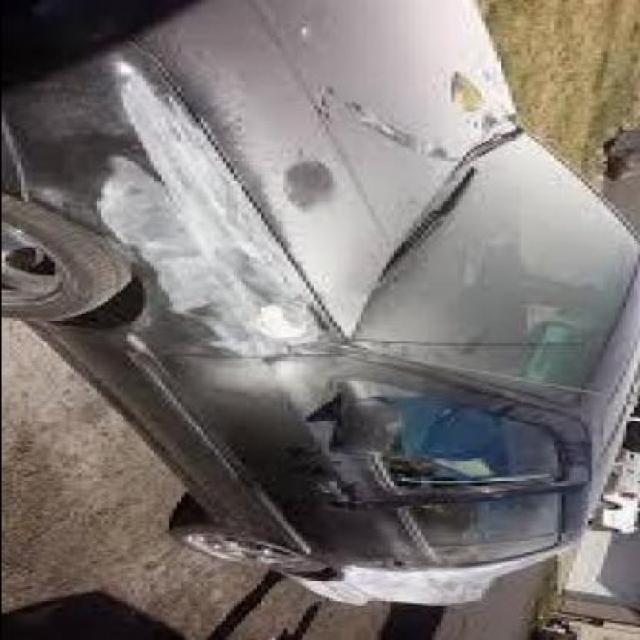damage: (88, 67, 337, 370), (307, 85, 457, 173), (277, 158, 348, 218)
